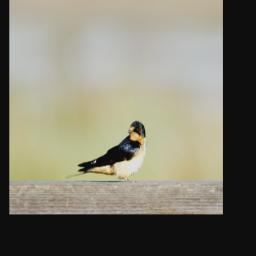Swallow: (64, 120, 147, 185)
